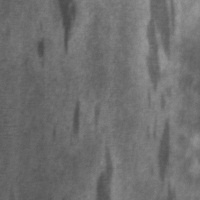inclusion: (139, 1, 178, 140), (143, 109, 177, 199), (92, 140, 118, 199), (55, 0, 81, 59), (33, 22, 50, 72), (67, 98, 85, 138)
